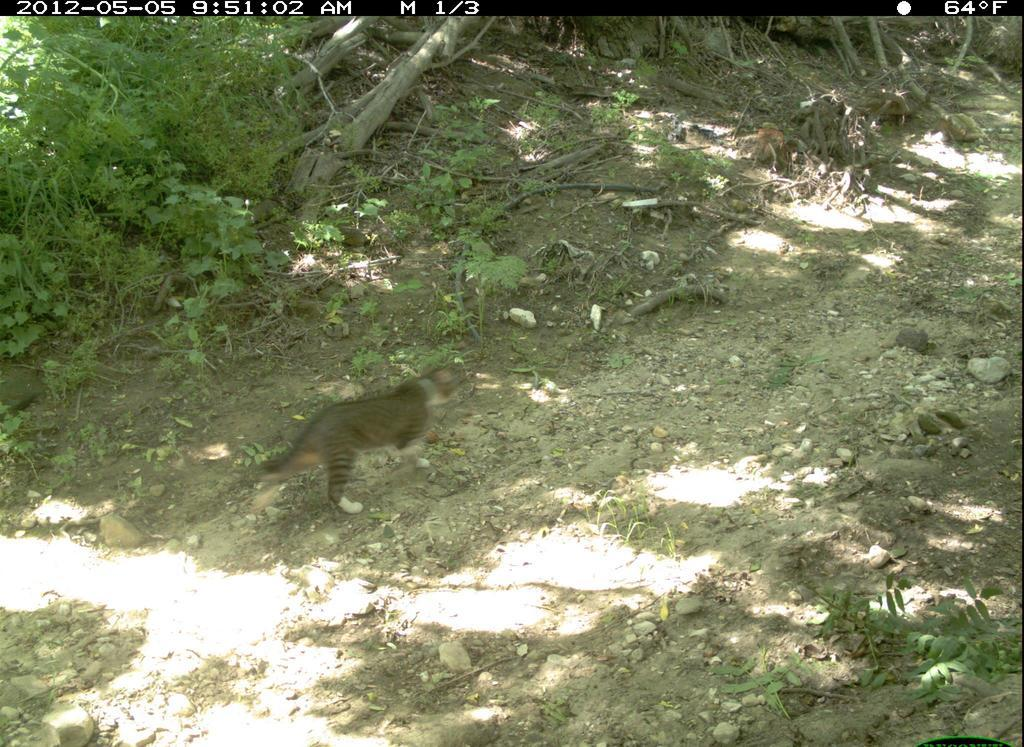cat: (242, 364, 479, 523)
